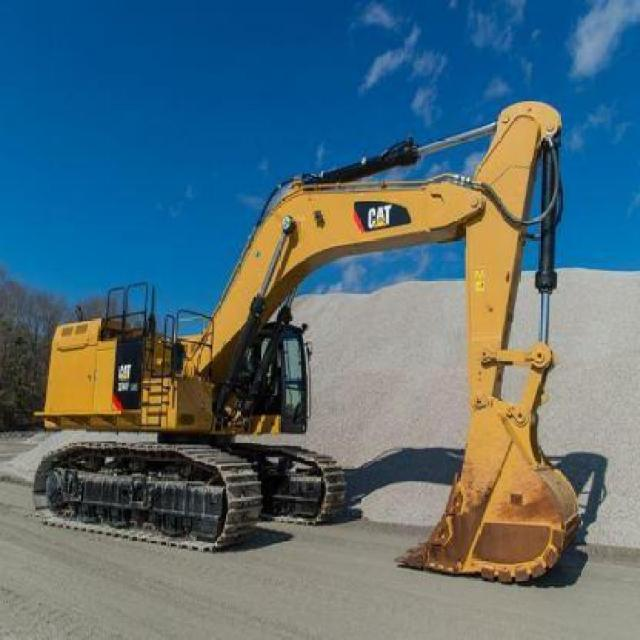Excavator: (33, 99, 581, 586)
